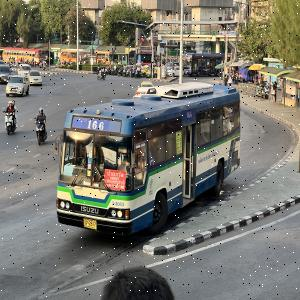BMTA-bus: (55, 83, 241, 237)
Bus Line Number: (85, 117, 107, 132)
Bus Side Number: (111, 199, 125, 208)
Destination Sign: (102, 168, 126, 190)
